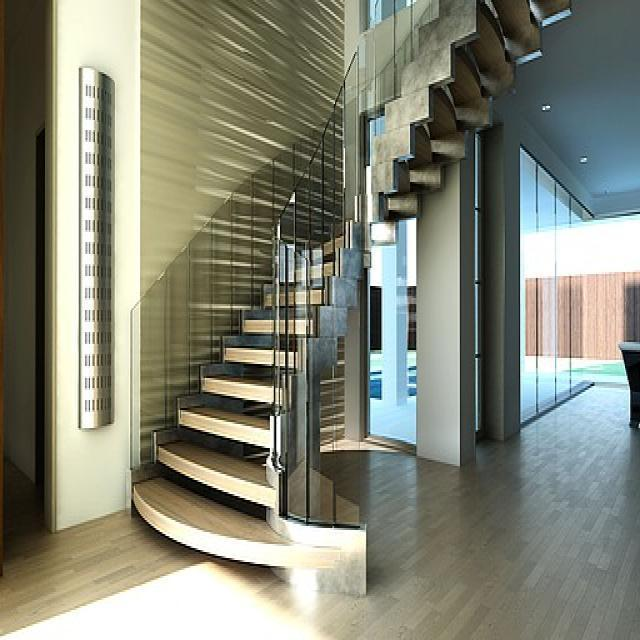stairs: (128, 0, 572, 594)
